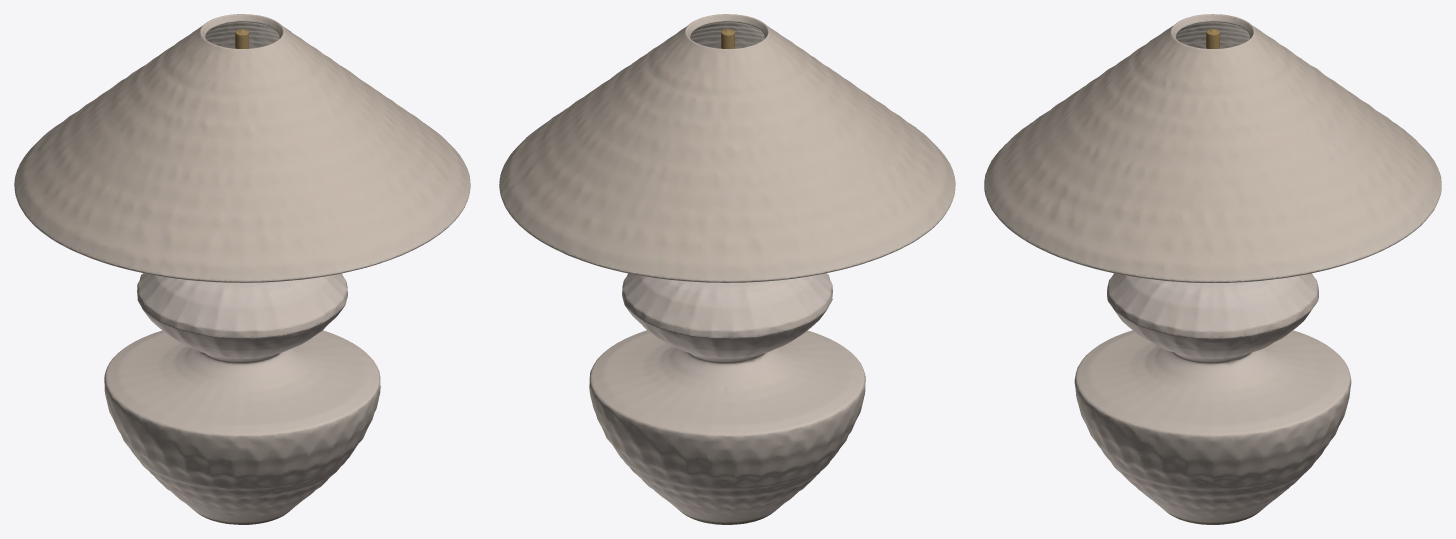
The model's file is coffee-table.glb.
3 views of the same model, side by side, from view 1: azimuth 30°, elevation 25°; view 2: azimuth 150°, elevation 25°; view 3: azimuth 270°, elevation 25° (orthographic).
Visible parts, largest first — view 1: world; view 2: world; view 3: world.
Boxes of the visible parts, x1=… form: world: x1=14, y1=14, x2=470, y2=524; world: x1=499, y1=14, x2=955, y2=524; world: x1=984, y1=14, x2=1441, y2=524.
Size of the model in its own units: 0.8611 by 0.9865 by 0.8623.
1 material, 1 textured.
